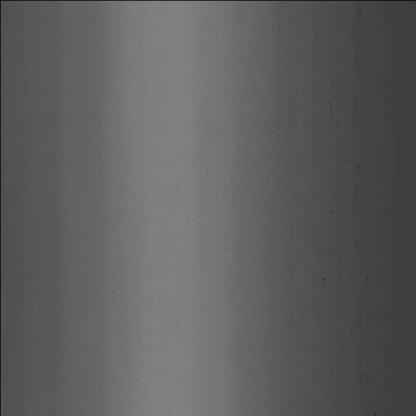inclusion: (351, 19, 361, 138), (352, 153, 366, 177), (317, 268, 330, 286)
